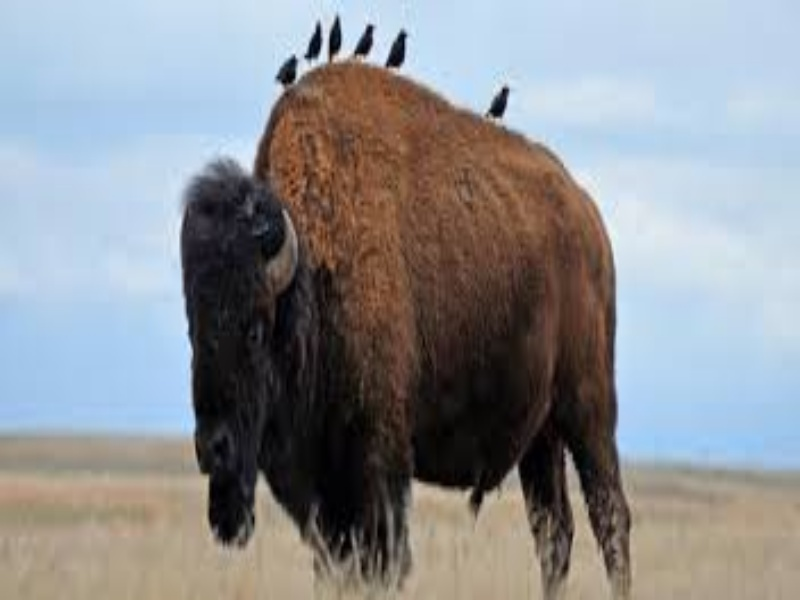buffalo: (143, 43, 647, 571)
